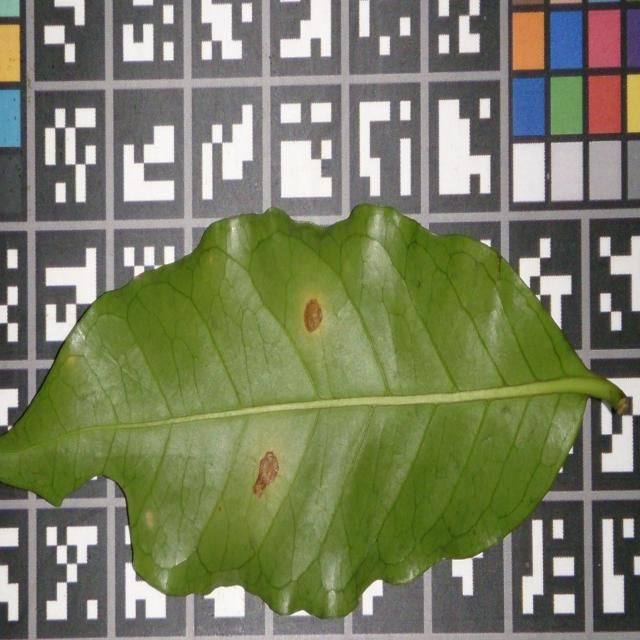Enfermedad-Mancha-de-hierro: (0, 205, 632, 622)
